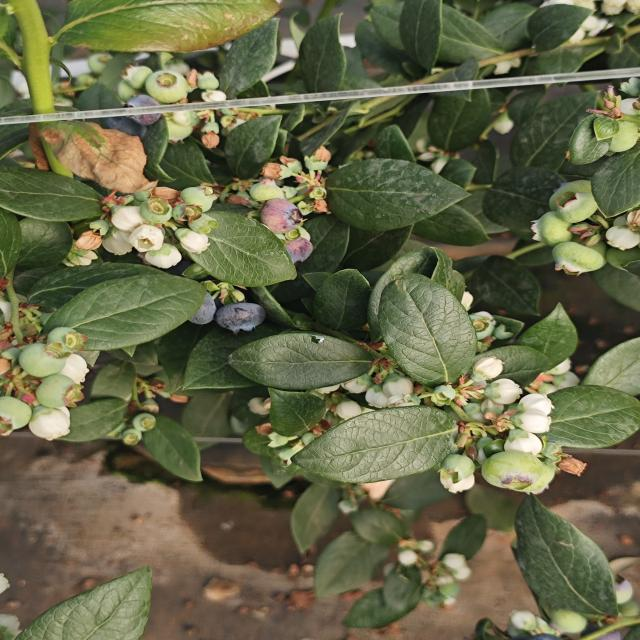ripe: (217, 297, 269, 338), (182, 289, 222, 332), (128, 92, 161, 125)
